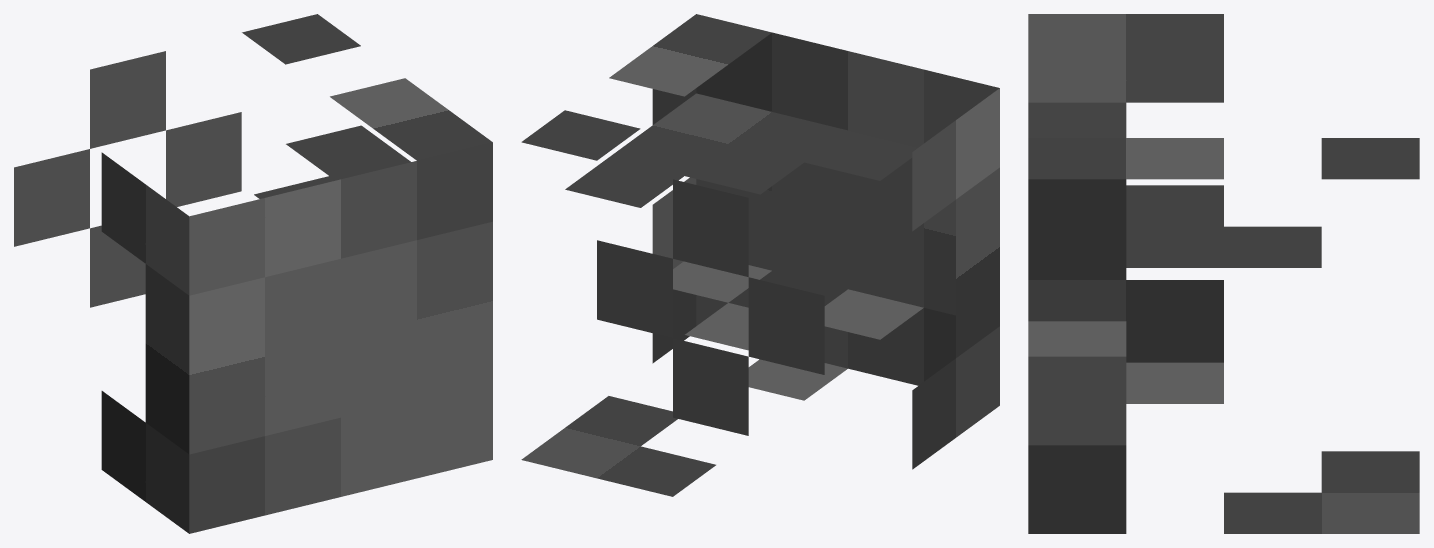
Rendered from missile_assembly.obj.
3 renders of one model, left to right at view 1: azimuth 30°, elevation 25°; view 2: azimuth 150°, elevation 25°; view 3: azimuth 270°, elevation 25°, orthographic. The views are drawn at different scales.
Visible parts, largest first — view 1: Cube_Cube.001; view 2: Cube_Cube.001; view 3: Cube_Cube.001.
Part boxes in pixels (box(x1,y1,x2,y2)): Cube_Cube.001: box(14, 14, 492, 533); Cube_Cube.001: box(521, 14, 999, 496); Cube_Cube.001: box(1028, 14, 1419, 533).
Bounding box in the file's own units: 1 × 1 × 1.
